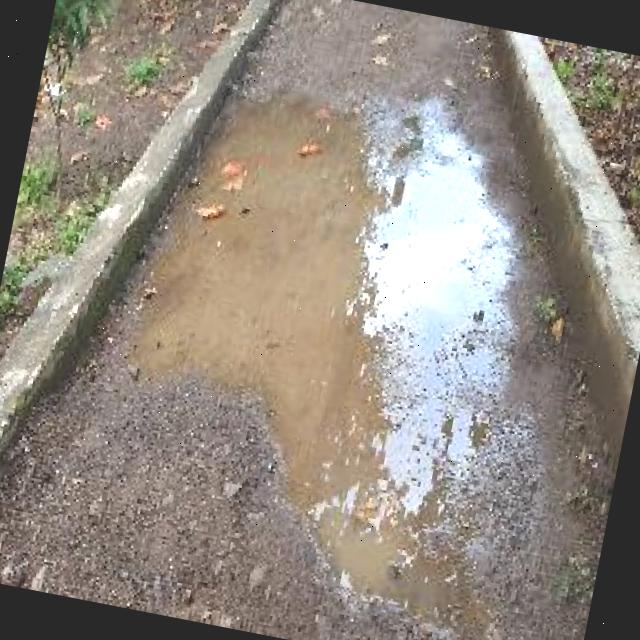stagnation: (98, 73, 533, 640)
